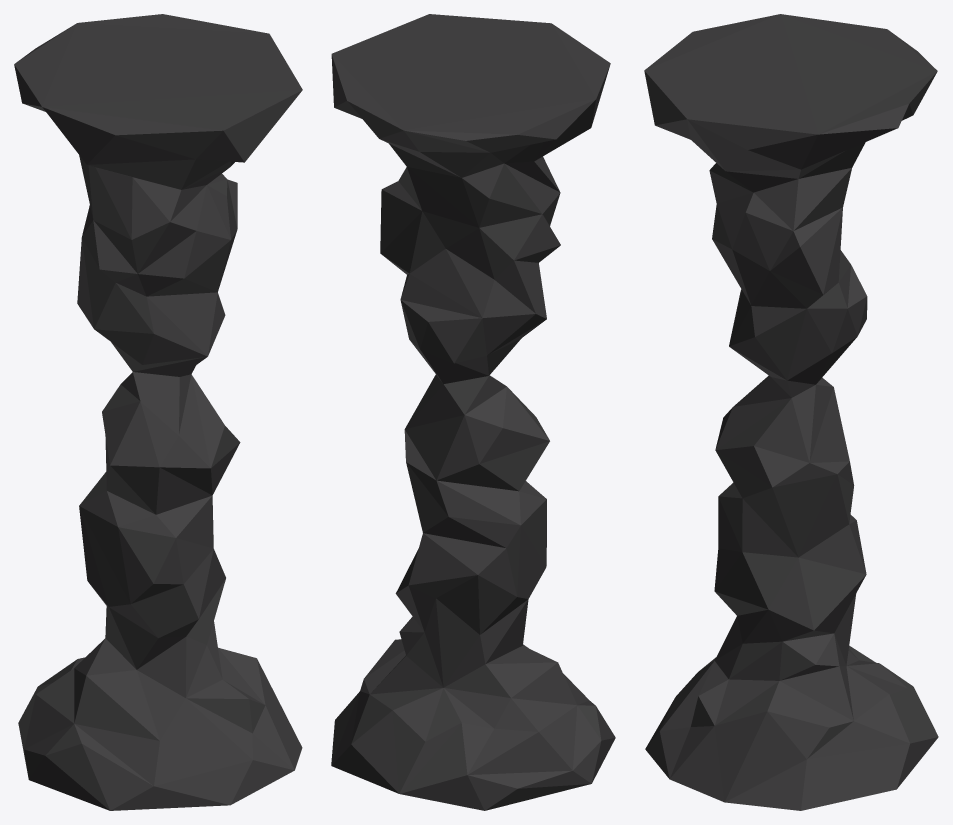
Rendered from Stal_4.fbx.
3 renders of one model, left to right at view 1: azimuth 30°, elevation 25°; view 2: azimuth 150°, elevation 25°; view 3: azimuth 270°, elevation 25°, orthographic.
Visible parts, largest first — view 1: polySurface1070; view 2: polySurface1070; view 3: polySurface1070.
Part boxes in pixels (box(x1,y1,x2,y2)): polySurface1070: box(14, 14, 302, 810); polySurface1070: box(331, 14, 615, 810); polySurface1070: box(644, 14, 938, 810).
Size of the model in its own units: 4.22 by 10.71 by 4.21.
